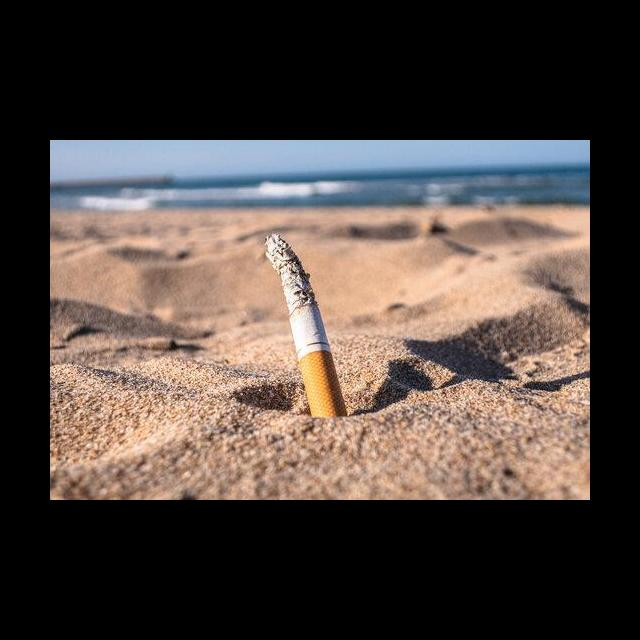Cigarette Butt: (263, 231, 348, 418)
